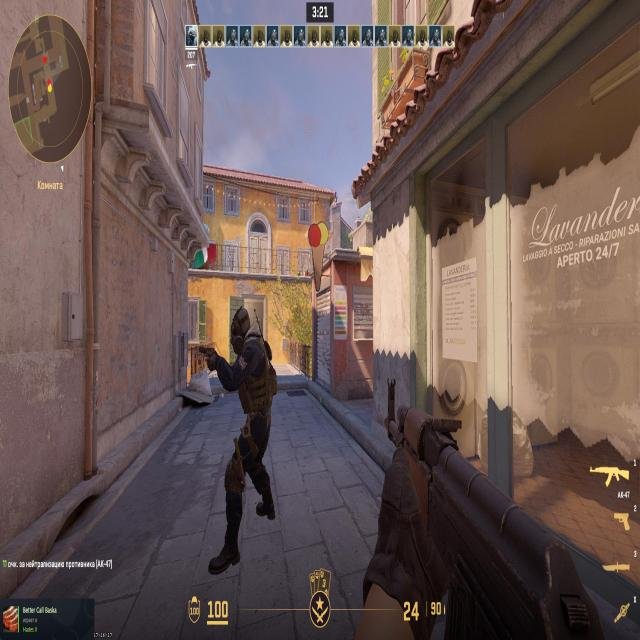CT: (240, 330, 252, 350)
CT_heat: (235, 322, 268, 476)
